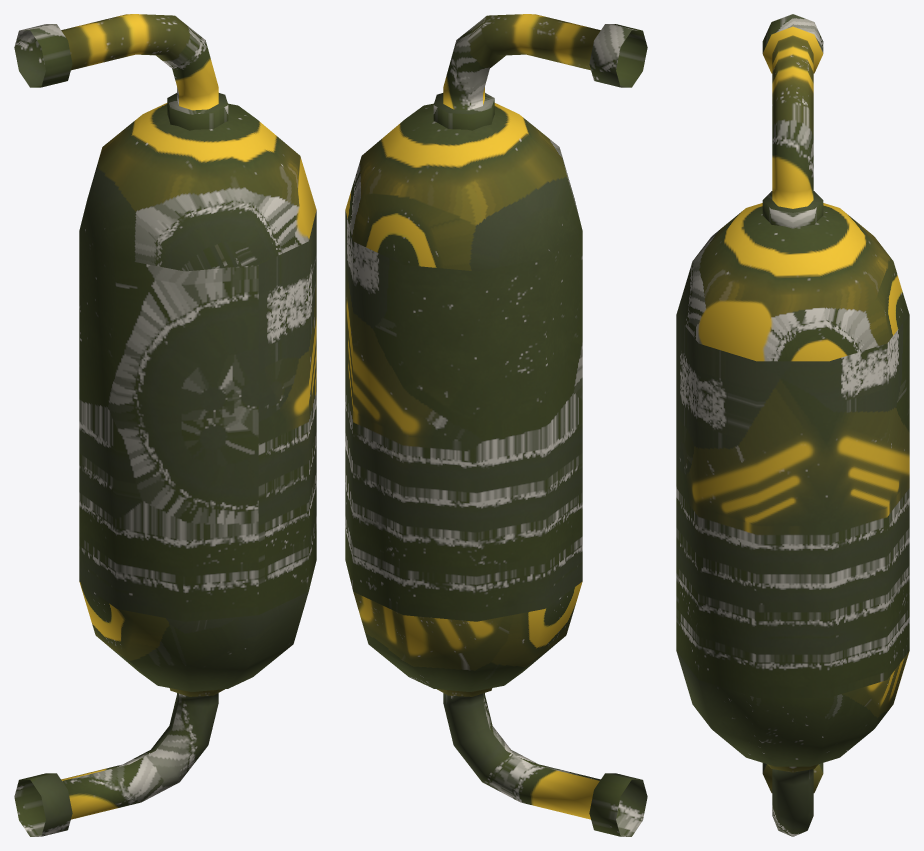
Rendered from CapsuleTarget.fbx.
3 renders of one model, left to right at view 1: azimuth 30°, elevation 25°; view 2: azimuth 150°, elevation 25°; view 3: azimuth 270°, elevation 25°, orthographic. The views are drawn at different scales.
Parts seen in each view (by area): view 1: Boss001_Target_01; view 2: Boss001_Target_01; view 3: Boss001_Target_01.
Boxes of the visible parts, x1,y1,x2,y2 form: Boss001_Target_01: (14,14,316,836); Boss001_Target_01: (345,14,647,836); Boss001_Target_01: (676,14,909,836).
Bounding box in the file's own units: 45.3 × 130 × 35.55.
